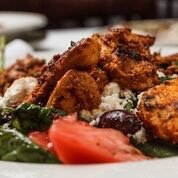pizza: (48, 118, 151, 164)
